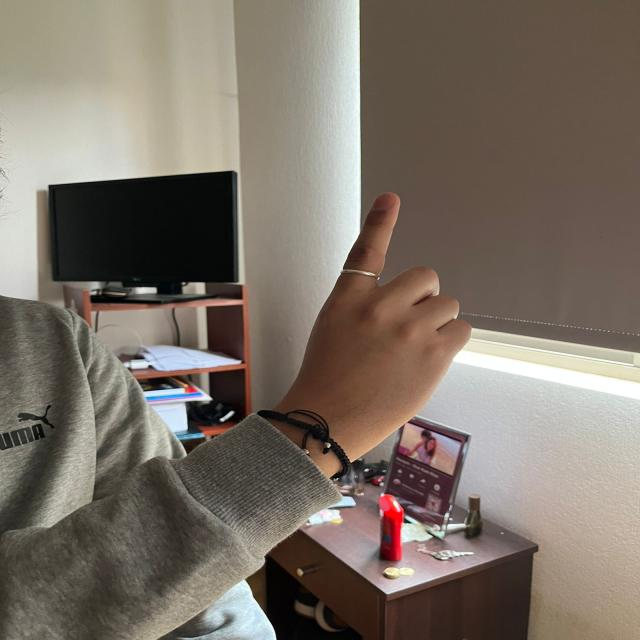T: (295, 181, 480, 445)
